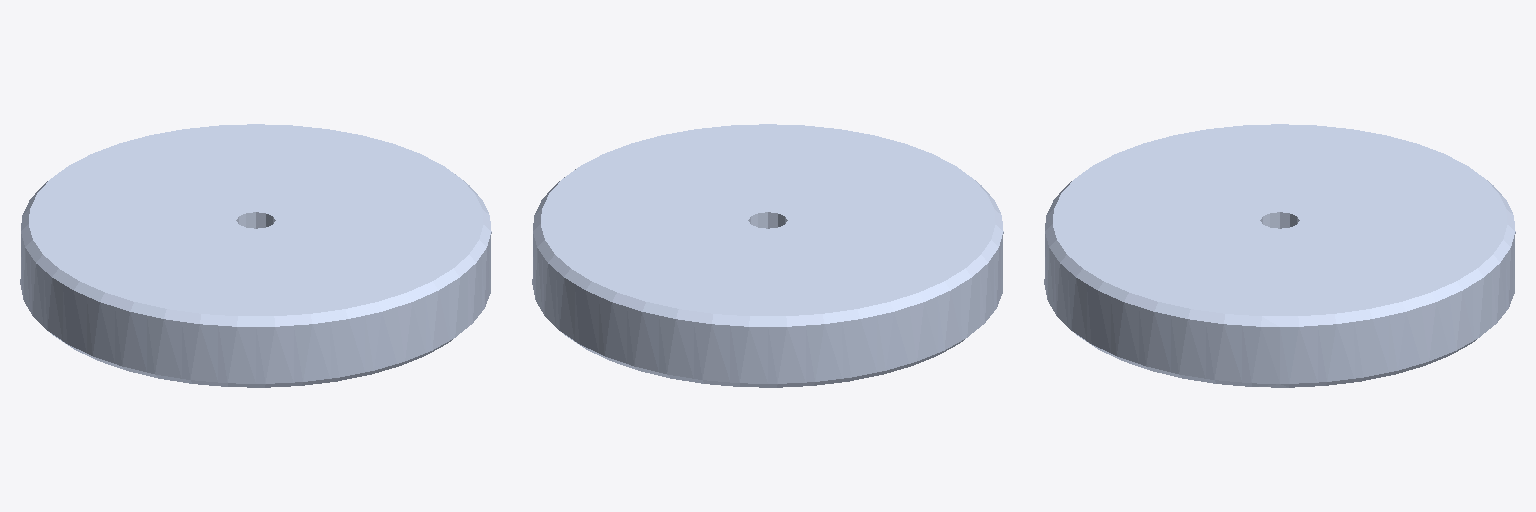
The robot description file, URDF, robot "MPO_700_wheel_simple.SLDPRT":
<robot
  name="MPO_700_wheel_simple.SLDPRT">
  <link
    name="MPO_700_wheel_simple.SLDPRT">
    <inertial>
      <origin
        xyz="-3.9055E-18 0.015 -9.15652565366783E-19"
        rpy="0 0 0" />
      <mass
        value="2.0333" />
      <inertia
        ixx="0.00427074582474934"
        ixy="-3.96396622904897E-35"
        ixz="-3.68776969402606E-20"
        iyy="2.54641258221388E-19"
        iyz="-0.00823979712112691"
        izz="5.11383260843001E-19" />
    </inertial>
    <visual>
      <origin
        xyz="1.5707963267949 0 0"
        rpy="0 0 0" />
      <geometry>
        <mesh
          filename="package://MPO_700_wheel_simple.SLDPRT/meshes/MPO_700_wheel_simple.SLDPRT.STL" />
      </geometry>
      <material
        name="">
        <color
          rgba="0.86667 0.9098 1 1" />
      </material>
    </visual>
    <collision>
      <origin
        xyz="0 0 0"
        rpy="1.5707963267949 0 0" />
      <geometry>
        <mesh
          filename="package://MPO_700_wheel_simple.SLDPRT/meshes/MPO_700_wheel_simple.SLDPRT.STL" />
      </geometry>
    </collision>
  </link>
</robot>

--- What the picture shows (computed from the rendered views, not written in the file) ---
Views: 3 orthographic renders of the robot side by side, from view 1: azimuth 30°, elevation 25°; view 2: azimuth 150°, elevation 25°; view 3: azimuth 270°, elevation 25°.
Model MPO_700_wheel_simple.SLDPRT with 1 links and 0 joints (none), rooted at MPO_700_wheel_simple.SLDPRT, posed all joints at 0.
Visible links, largest first — view 1: MPO_700_wheel_simple.SLDPRT; view 2: MPO_700_wheel_simple.SLDPRT; view 3: MPO_700_wheel_simple.SLDPRT.
Boxes of the visible links, box(x1,y1,x2,y2) form: MPO_700_wheel_simple.SLDPRT: box(20, 124, 491, 387); MPO_700_wheel_simple.SLDPRT: box(532, 124, 1003, 387); MPO_700_wheel_simple.SLDPRT: box(1044, 124, 1515, 387).
Bounding box of the posed robot: 0.18 × 0.1799 × 0.03 m (x, y, z).
1 mesh visuals loaded from 1 distinct referenced files (1 binary STL).